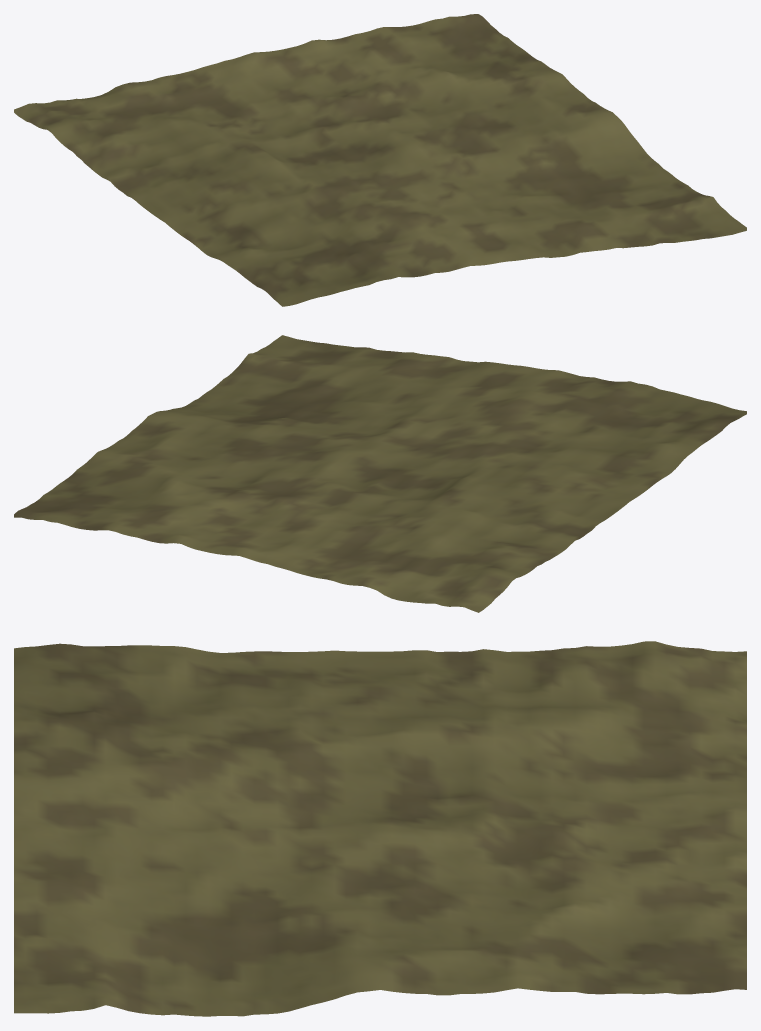
Rendered from land_f_02_04.glb.
The picture shows the model from 3 angles, top to bottom: view 1: azimuth 30°, elevation 25°; view 2: azimuth 150°, elevation 25°; view 3: azimuth 270°, elevation 25°; orthographic projection. The views are drawn at different scales.
Visible parts, largest first — view 1: land_f_02_04; view 2: land_f_02_04; view 3: land_f_02_04.
Boxes of the visible parts, box(x1,y1,x2,y2) form: land_f_02_04: box(14, 14, 746, 306); land_f_02_04: box(14, 335, 746, 612); land_f_02_04: box(14, 641, 746, 1016).
Bounding box in the file's own units: 3840 × 391 × 3840.
